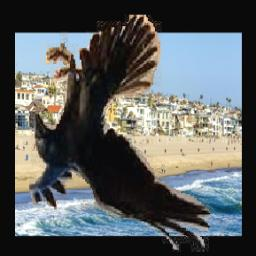Crow: (30, 15, 212, 252)
